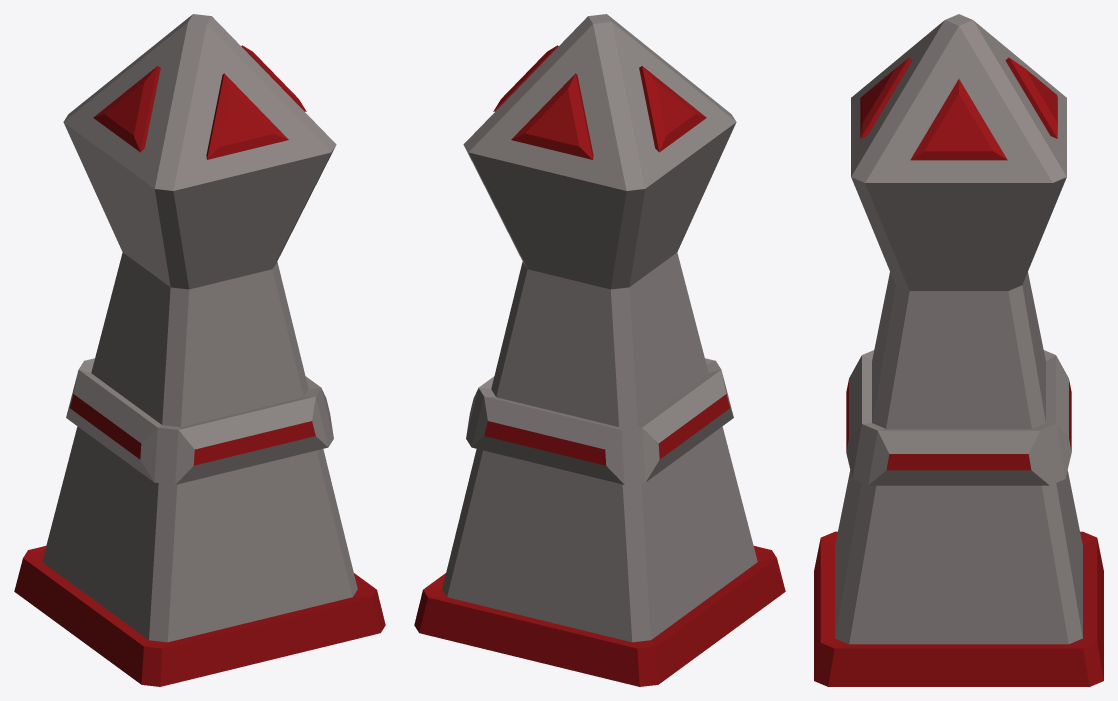
Rendered from FichaMetal.fbx.
3 views of the same model, side by side, from view 1: azimuth 30°, elevation 25°; view 2: azimuth 150°, elevation 25°; view 3: azimuth 270°, elevation 25° (orthographic). The views are drawn at different scales.
Visible parts, largest first — view 1: Metalico; view 2: Metalico; view 3: Metalico.
Part boxes in pixels (left/top/right/bottom): Metalico: left=14, top=14, right=385, bottom=686; Metalico: left=414, top=14, right=785, bottom=686; Metalico: left=814, top=14, right=1103, bottom=686.
Size of the model in its own units: 14.57 by 33.61 by 14.57.
